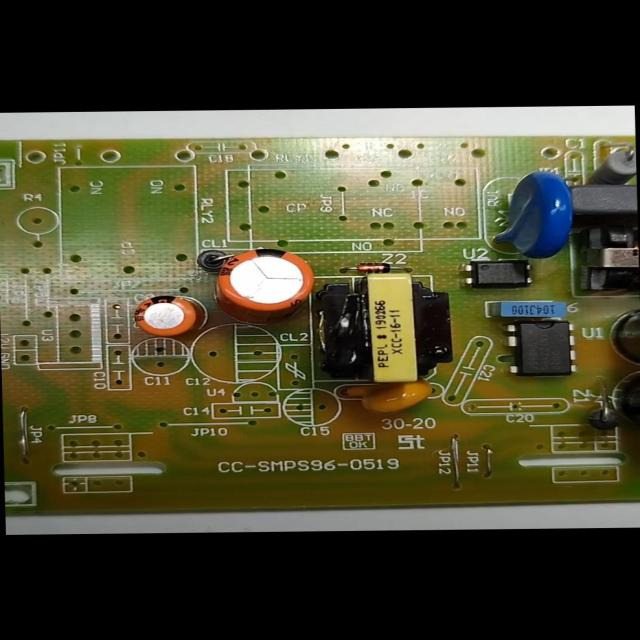Cap1: (210, 247, 315, 311)
Cap2: (134, 294, 198, 338)
Cap3: (611, 302, 639, 374)
MOSFET: (504, 320, 578, 379)
Mov: (492, 170, 573, 258)
Resistor: (576, 148, 636, 185)
Transformer: (315, 273, 455, 384), (580, 224, 638, 294)
